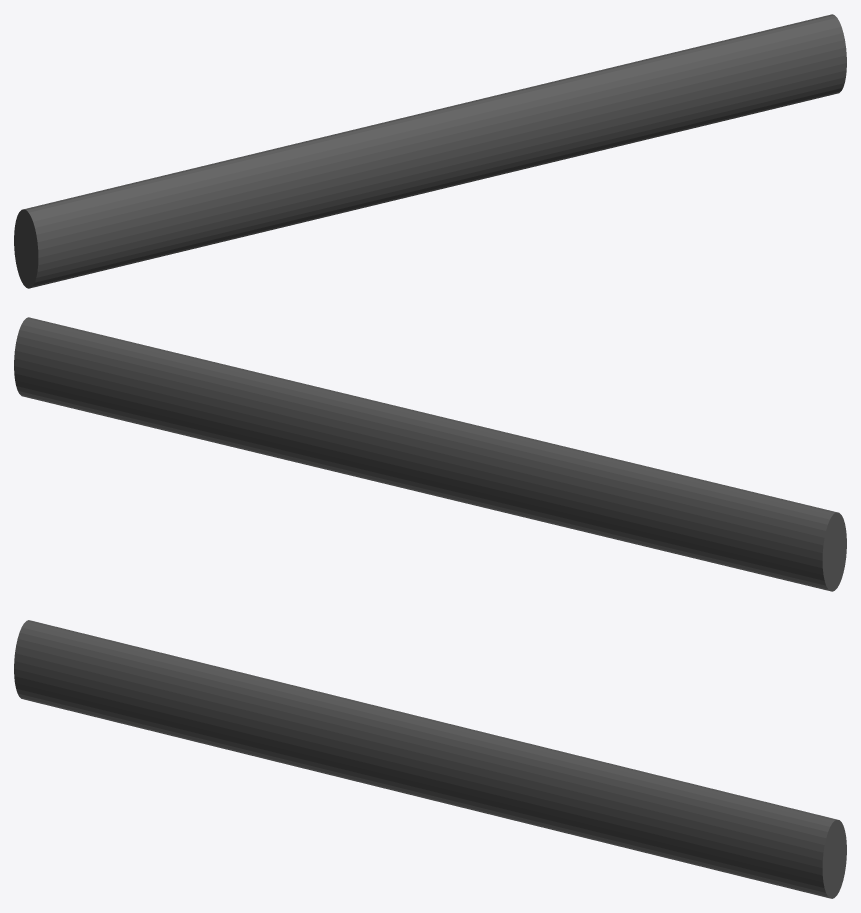
The model's file is horizontalBar.obj.
3 views of the same model, one above another, from view 1: azimuth 30°, elevation 25°; view 2: azimuth 150°, elevation 25°; view 3: azimuth 330°, elevation 25° (orthographic).
Visible parts, largest first — view 1: 円柱.001; view 2: 円柱.001; view 3: 円柱.001.
Part boxes in pixels (box(x1,y1,x2,y2)): 円柱.001: box(14, 14, 846, 288); 円柱.001: box(14, 317, 846, 591); 円柱.001: box(14, 620, 846, 898).
Bounding box in the file's own units: 3.8 × 0.3584 × 0.1991.
Materials: 1 (1 with a texture image).
